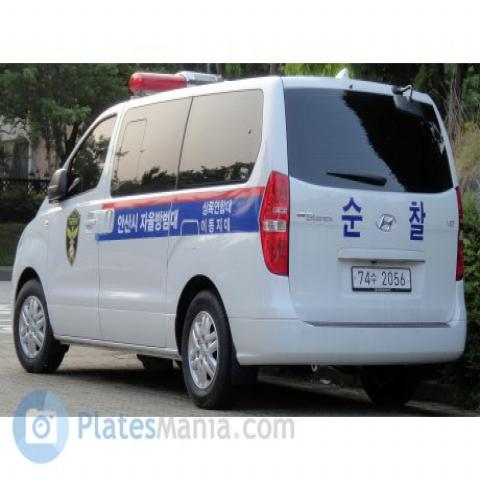LP: (346, 252, 420, 300)
